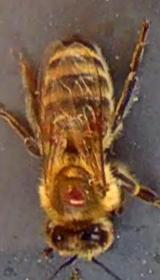varroa_mite: (62, 184, 89, 206)
